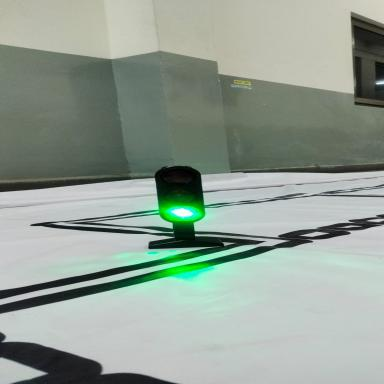green: (157, 201, 217, 226)
